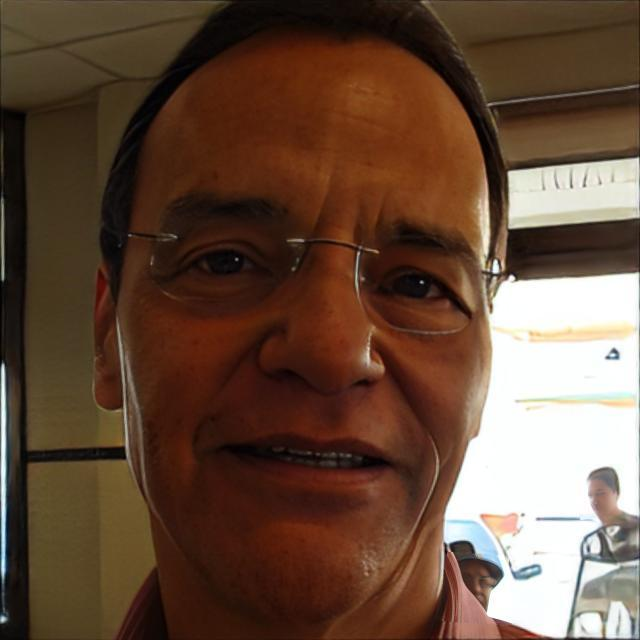disgust: (116, 27, 494, 626), (452, 562, 492, 616)
